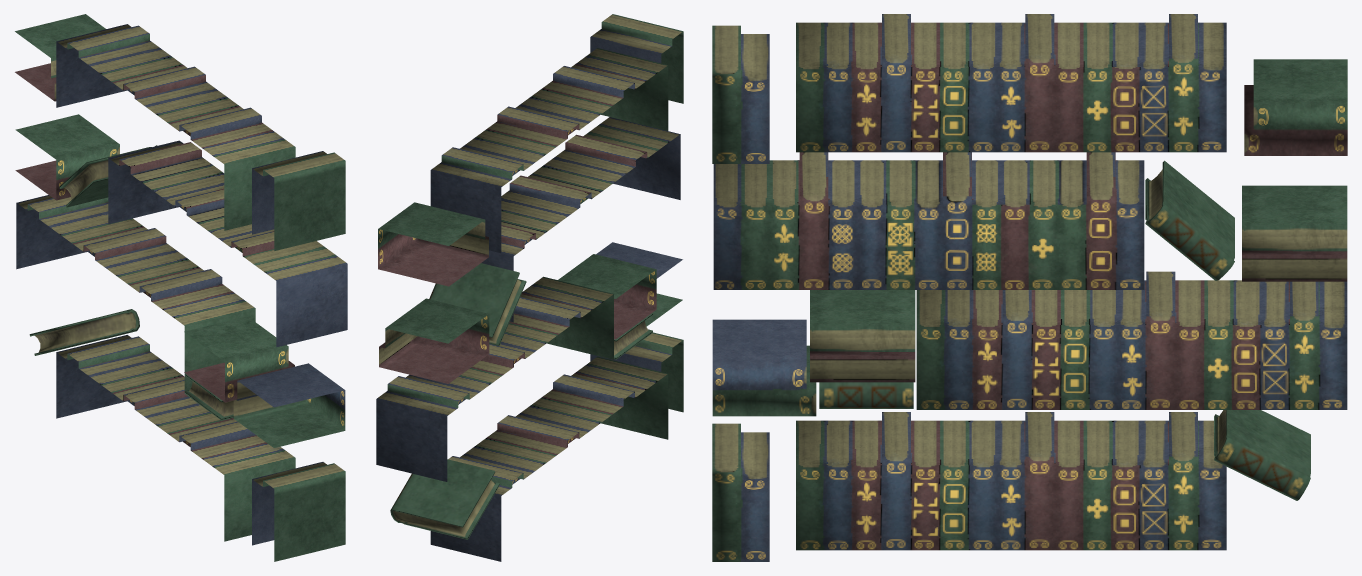
Rendered from BookCaseFillUpper_A_01.fbx.
3 views of the same model, side by side, from view 1: azimuth 30°, elevation 25°; view 2: azimuth 150°, elevation 25°; view 3: azimuth 270°, elevation 25° (orthographic). The views are drawn at different scales.
Visible parts, largest first — view 1: BookCaseFillUpper_A_01; view 2: BookCaseFillUpper_A_01; view 3: BookCaseFillUpper_A_01.
Boxes of the visible parts, box(x1,y1,x2,y2) form: BookCaseFillUpper_A_01: box(15, 14, 347, 561); BookCaseFillUpper_A_01: box(376, 14, 683, 561); BookCaseFillUpper_A_01: box(712, 14, 1347, 561).
Size of the model in its own units: 31.79 by 128 by 150.
